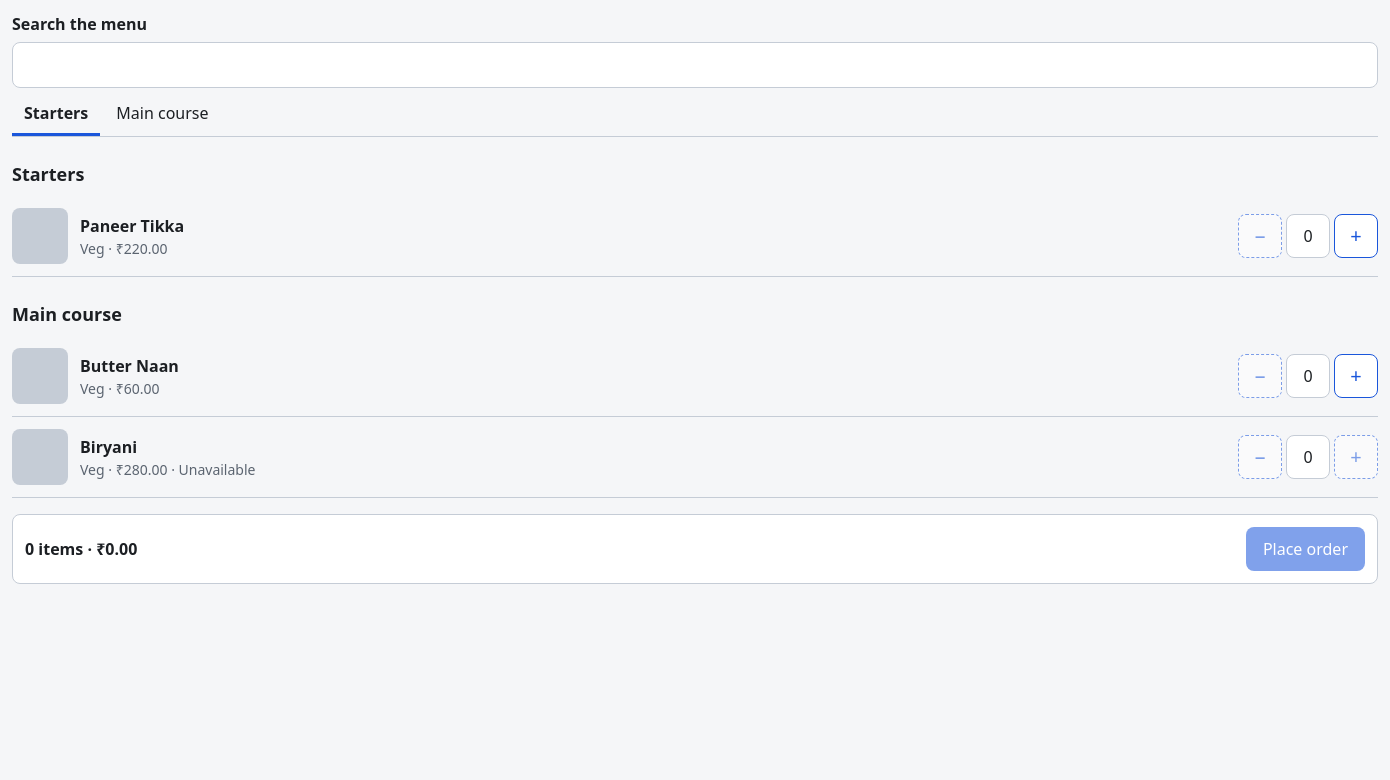
Test case: RestaurantPage: the cart › adds dishes and shows the count and the total in the cart bar
Step 1. Click the button named "Add Paneer Tikka" → {"x": 1356, "y": 236}, box top-left (1334, 214), bottom-right (1378, 258)
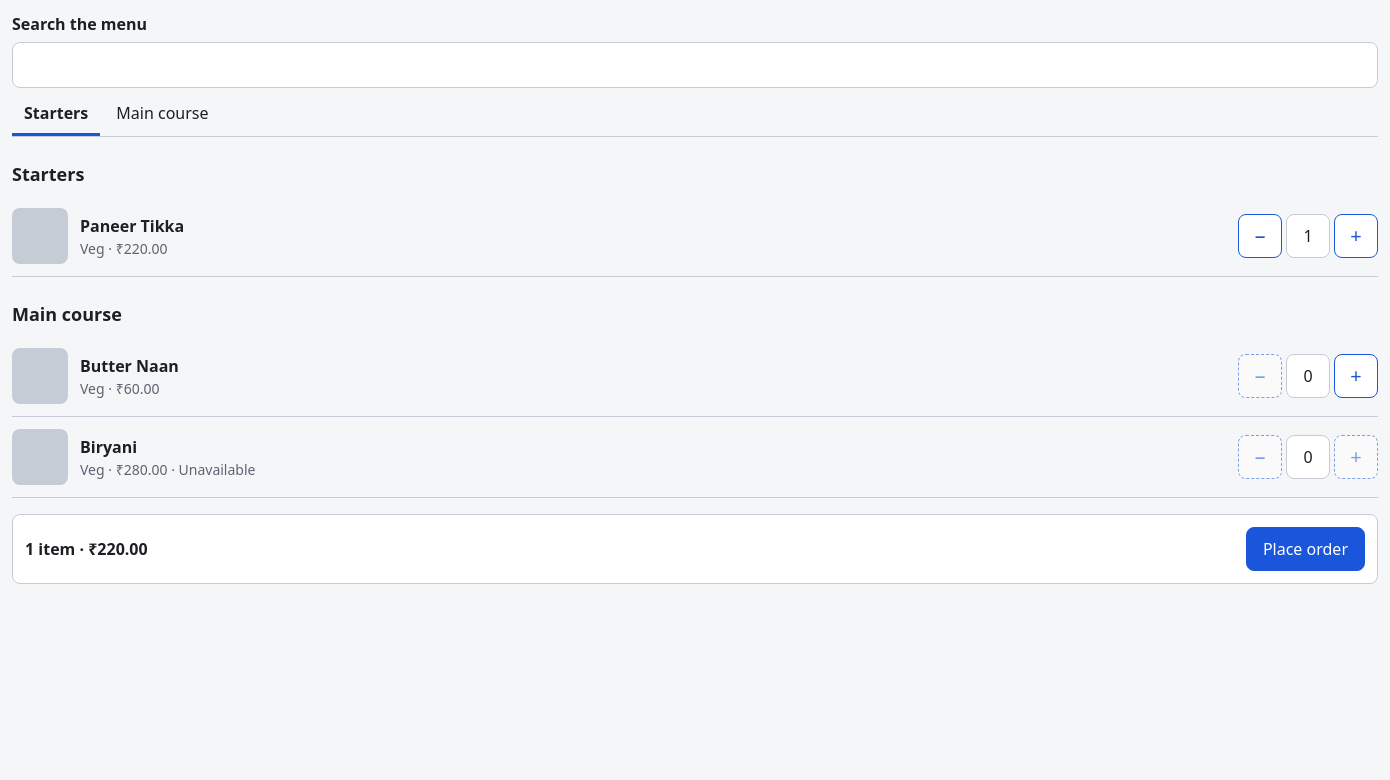
Step 2. Click the button named "Add Paneer Tikka" → {"x": 1356, "y": 236}, box top-left (1334, 214), bottom-right (1378, 258)
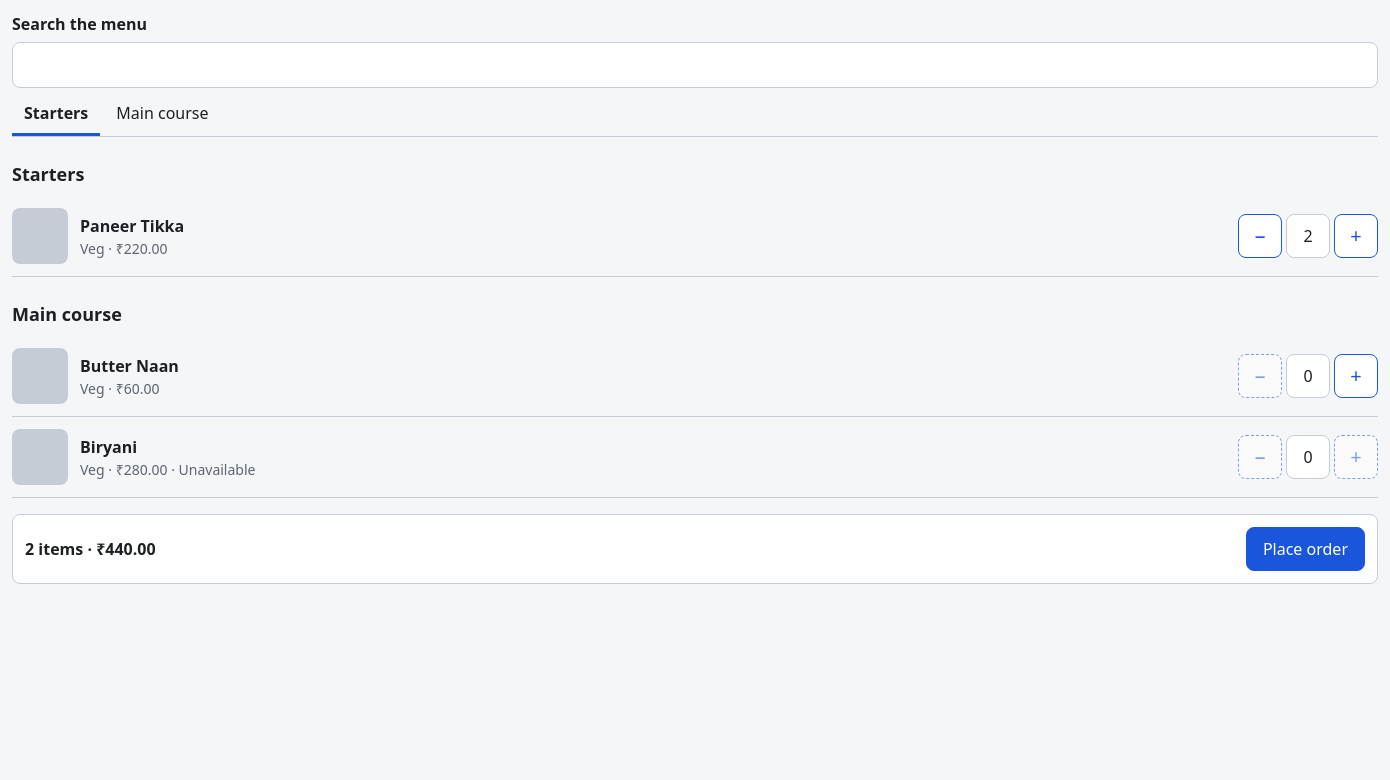
Step 3. Click the button named "Add Butter Naan" → {"x": 1356, "y": 376}, box top-left (1334, 354), bottom-right (1378, 398)
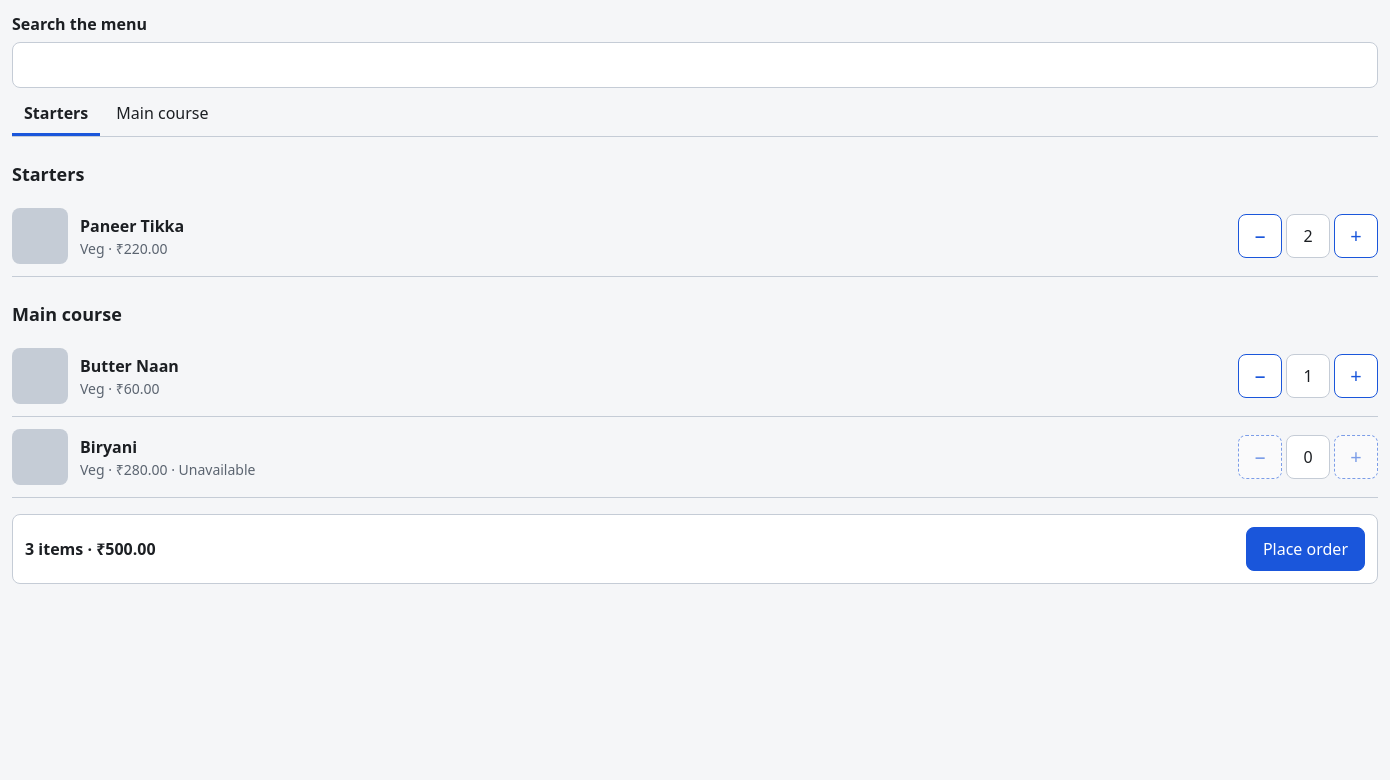
expect the text "3 items · ₹500.00" is shown: met, box top-left (25, 537), bottom-right (156, 561)
